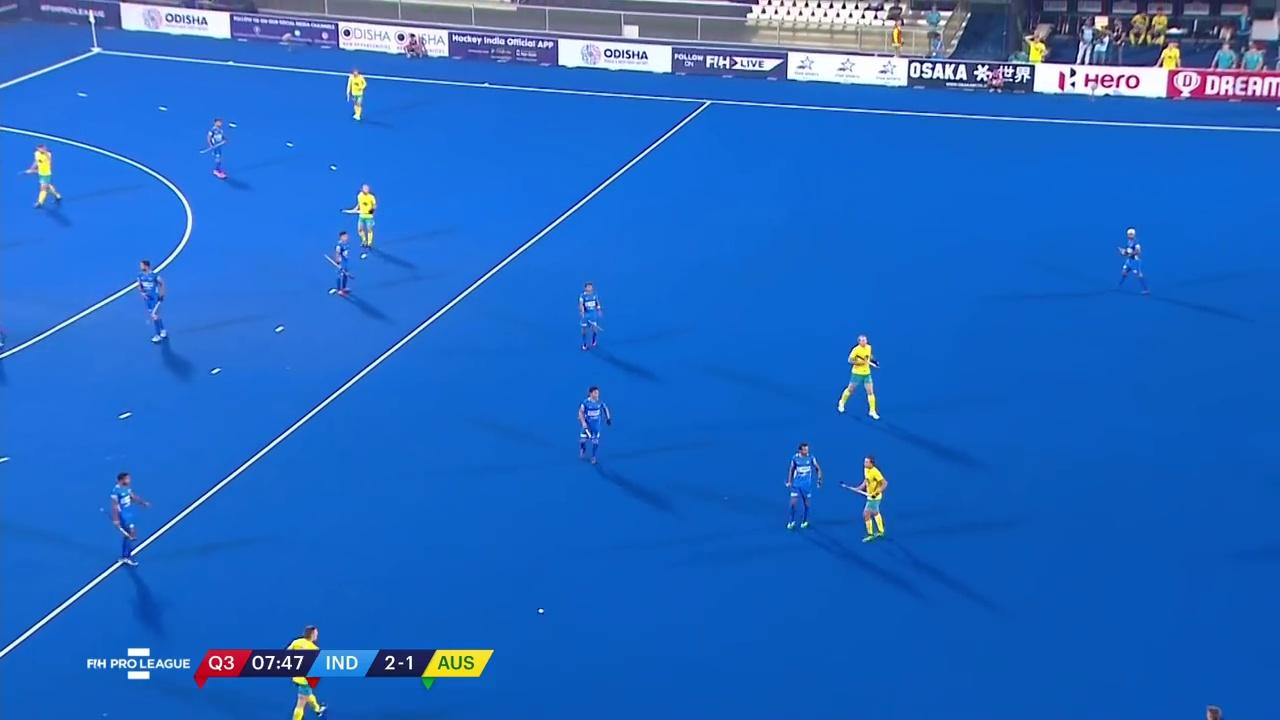ball: (530, 604, 552, 617)
